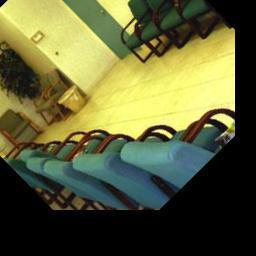Bote de Basura: (58, 81, 96, 119)
Matera: (0, 41, 69, 133)
Puerta: (48, 0, 141, 63)
